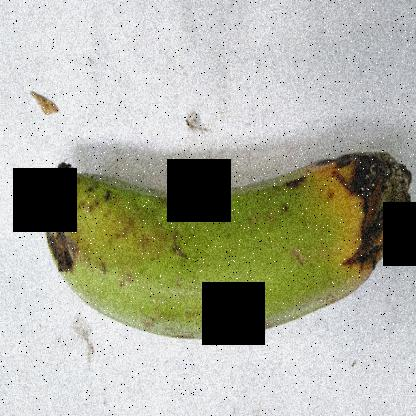unripe: (39, 156, 322, 371)
